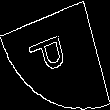P_E: (31, 29, 79, 81)
